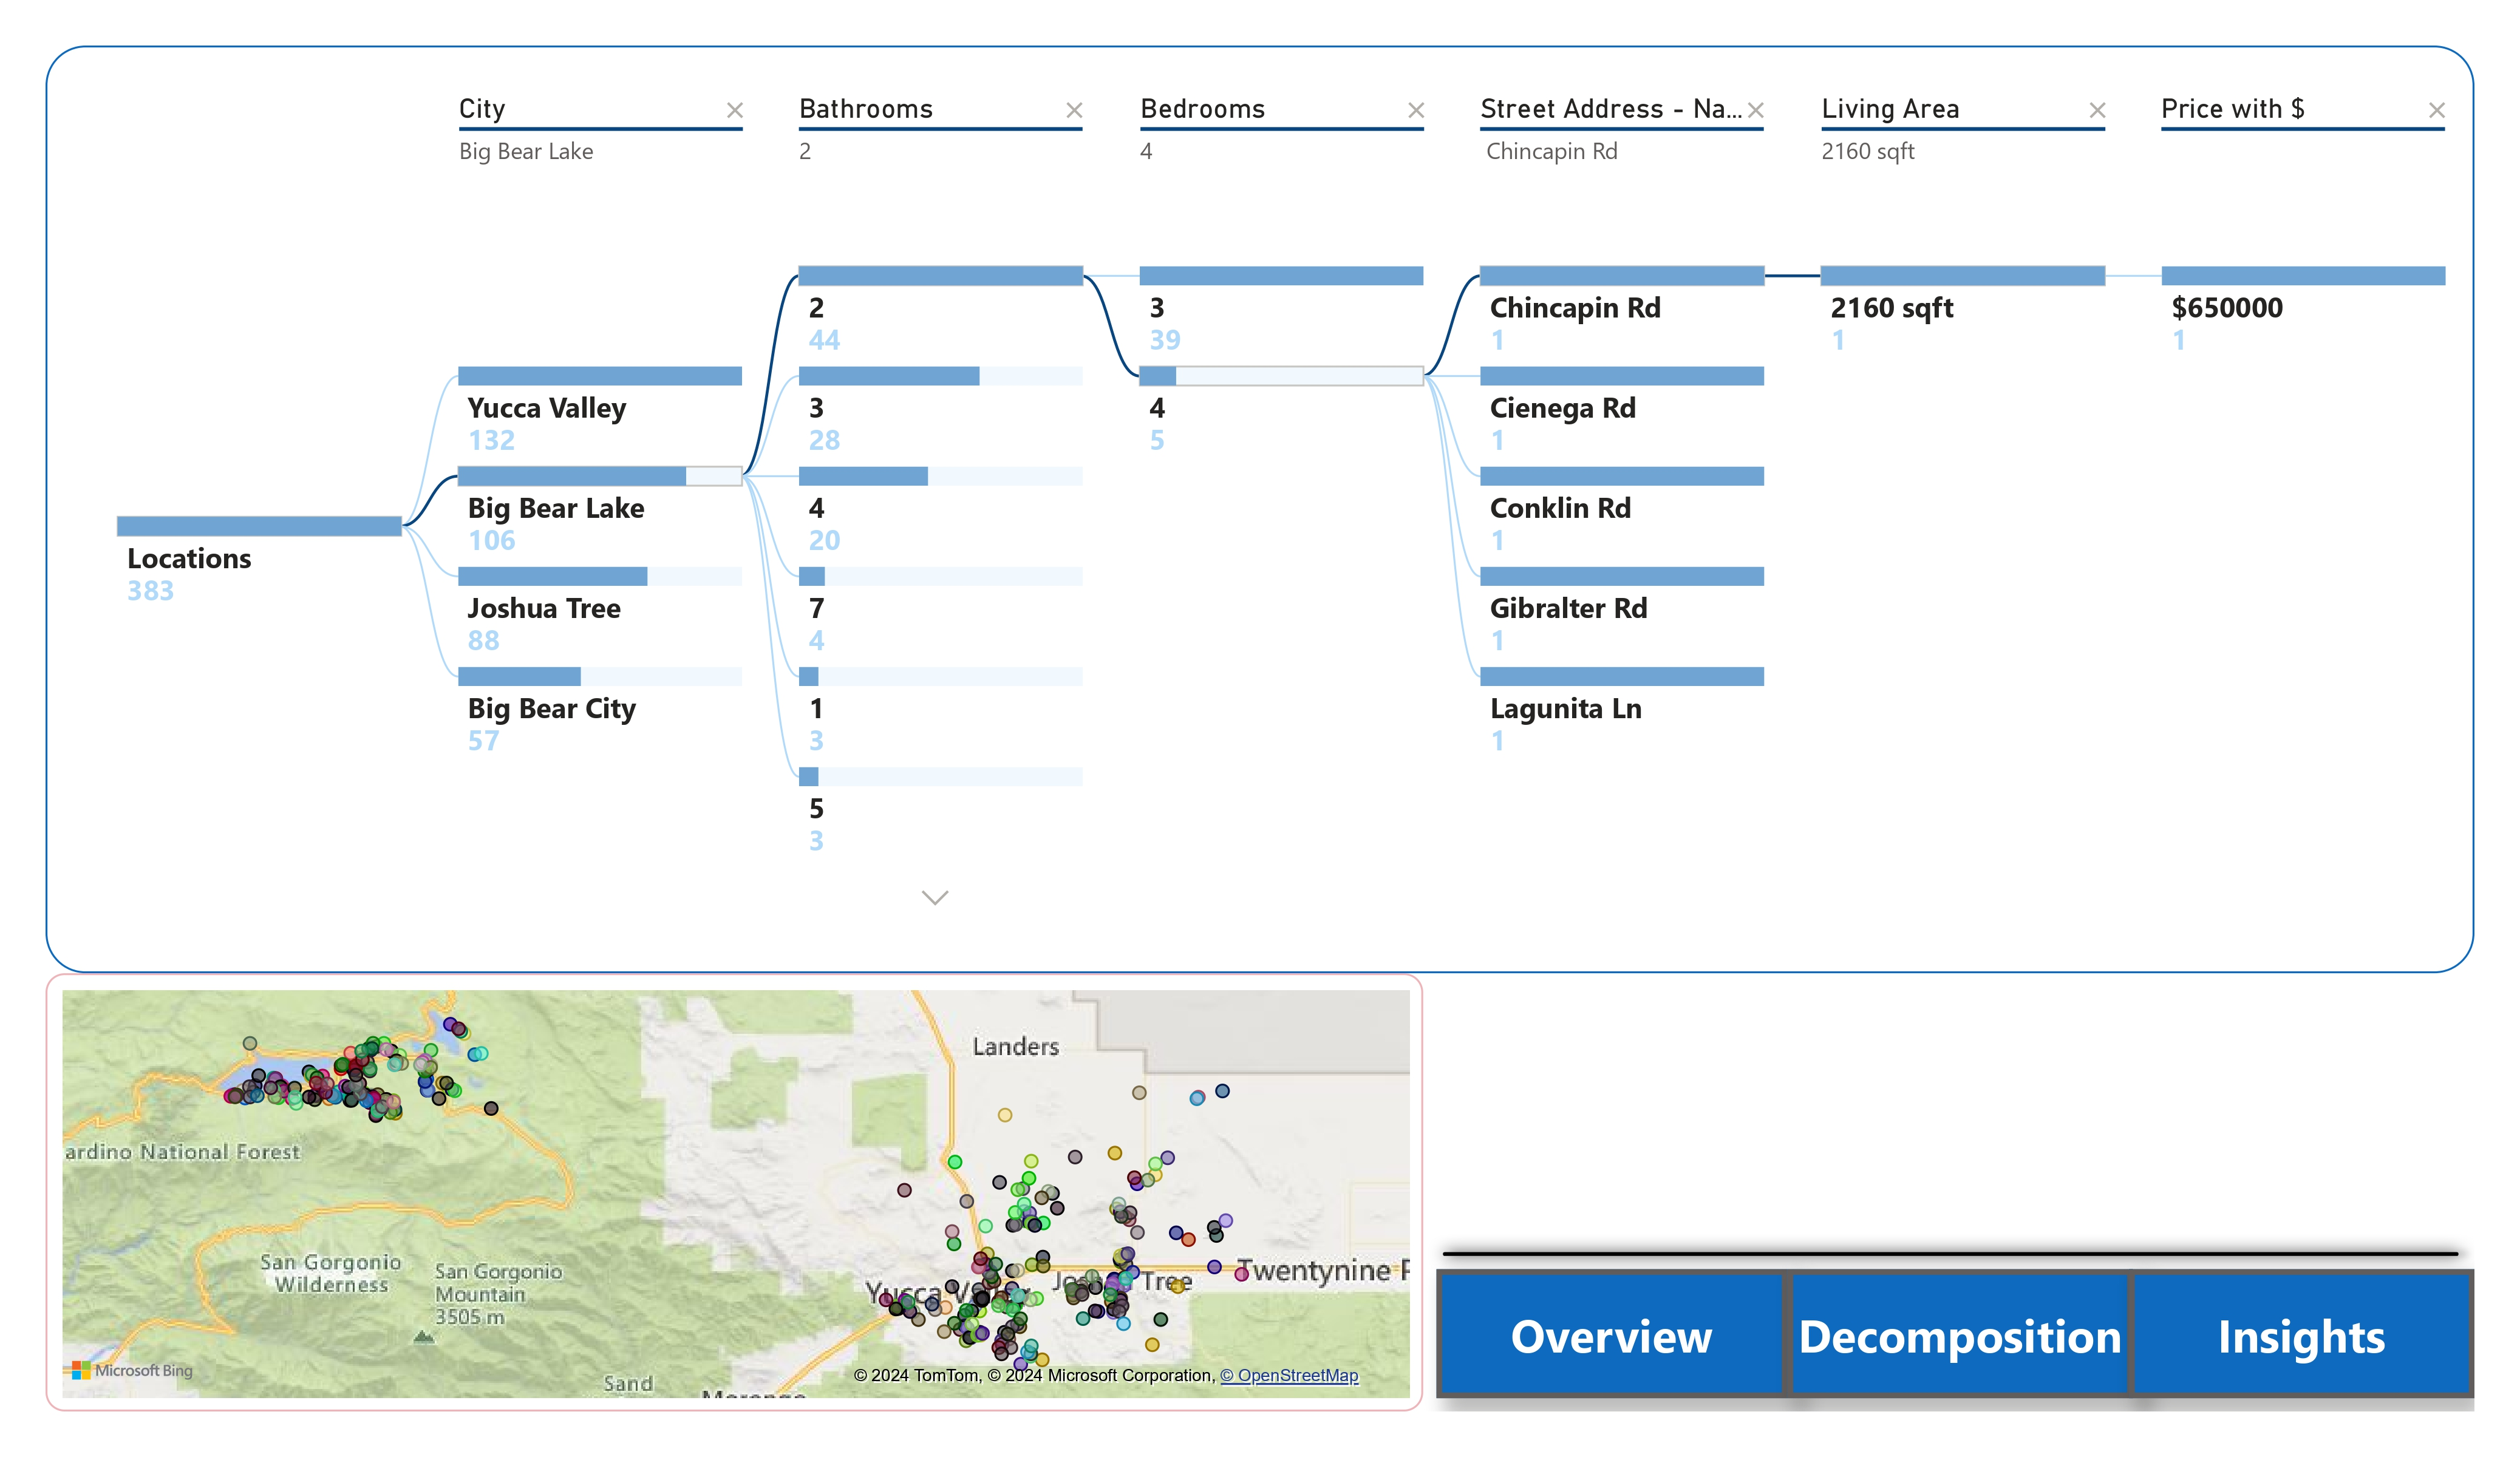

What the dashboard file says about the page in this screenshot:
{"tool":"powerbi","page":{"name":"Page 2","canvas":[1280,720],"ordinal":1},"visuals":[{"type":"decompositionTreeVisual","fields":{"ExplainBy":["sales_properties_total_zipcode.City","sales_properties_total_zipcode.Bathrooms","sales_properties_total_zipcode.Bedrooms","sales_properties_total_zipcode.Street Address - Name","sales_properties_total_zipcode.Living Area","sales_properties_total_zipcode.Price with $"],"Analyze":["CountNonNull(sales_properties_total_zipcode.City)"]},"box":[0,0,1280,488.8],"z":0},{"type":"actionButton","box":[732.5,645,185,67.5],"z":2000},{"type":"shape","box":[727.5,617.5,552.5,38.8],"z":3000},{"type":"actionButton","box":[917.5,645,182.5,67.5],"z":4000},{"type":"actionButton","box":[1097.5,645,182.5,67.5],"z":5000},{"type":"map","fields":{"Category":["sales_properties_total_zipcode.Custom"],"Series":["sales_properties_total_zipcode.Price with $"]},"box":[0,488.8,726.2,231.2],"z":8000}]}

Visuals, with their boxes on the page's 1280x720 design canvas (x1, y1, x2, y2). These are canvas units, not pixel positions in the 2520x1457 screenshot, which may show the page scaled, cropped or inside an application window:
decompositionTreeVisual - sales_properties_total_zipcode.City x sales_properties_total_zipcode.Bathrooms: region(0, 0, 1280, 489)
actionButton: region(732, 645, 918, 712)
shape: region(728, 618, 1280, 656)
actionButton: region(918, 645, 1100, 712)
actionButton: region(1098, 645, 1280, 712)
map - sales_properties_total_zipcode.Custom x sales_properties_total_zipcode.Price with $: region(0, 489, 726, 720)
